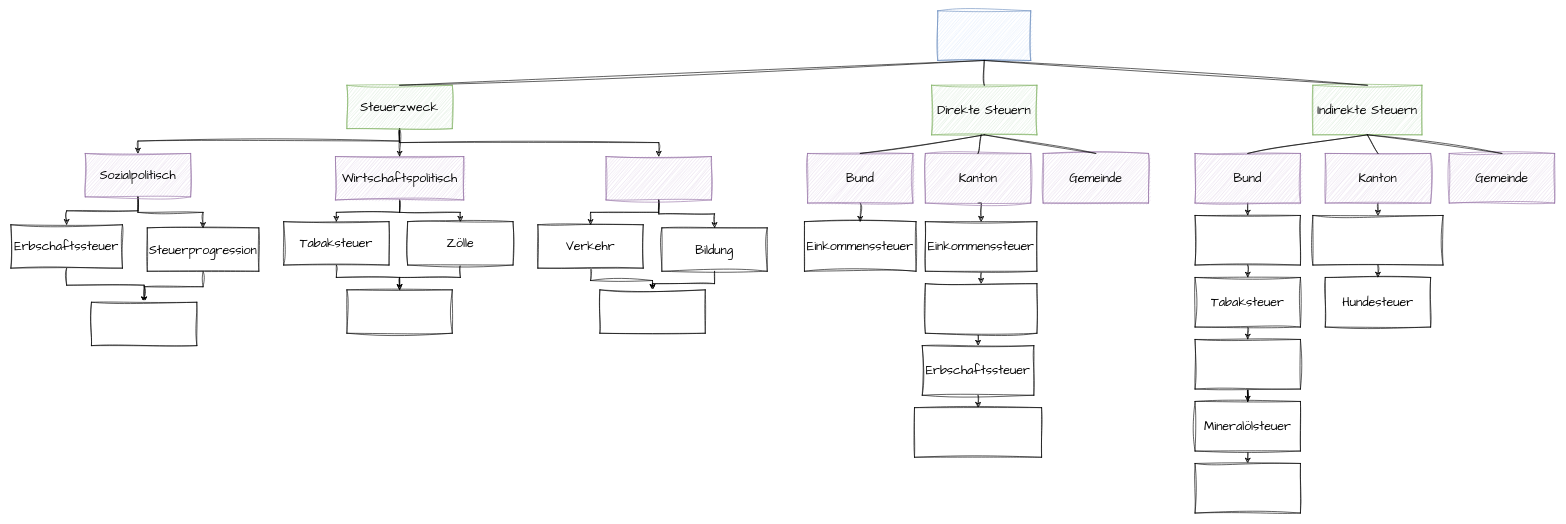
The diagram is 1566 pixels wide and 524 high, and some of its shapes have lost their labels. Each missing label, with the centre of its shape:
"Alkoholsteuer" goes at pixel 1247 364.
"Finanzierung der Staatsausgaben" goes at pixel 652 311.
"Fiskalpolitisch" goes at pixel 658 178.
"Lenkung Konsum und Produktion" goes at pixel 399 311.
"Liegenschaftssteuer" goes at pixel 978 432.
"LSVA" goes at pixel 1247 488.
"Mehrwertsteuer" goes at pixel 1247 240.
"Motorfahrzeugsteuer" goes at pixel 1377 240.
"Sozialer Ausgleich" goes at pixel 144 324.
"Steuern" goes at pixel 984 35.
"Vermögenssteuer" goes at pixel 981 308.
